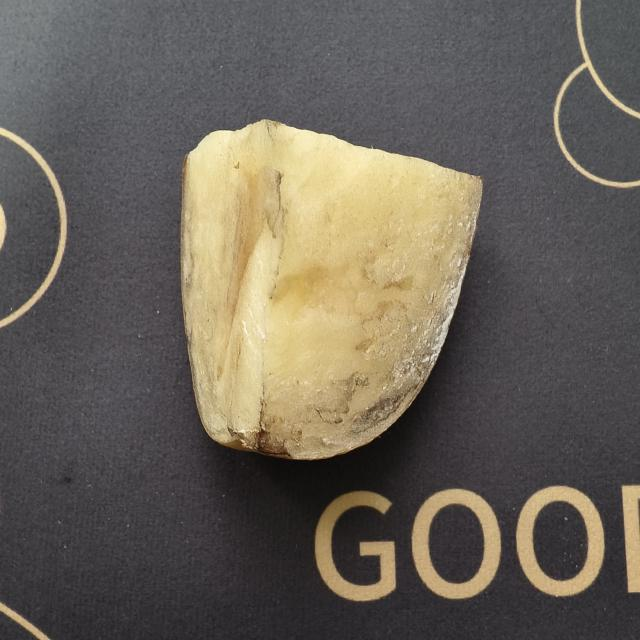-Kitchen waste - potato-: (178, 114, 484, 467)
